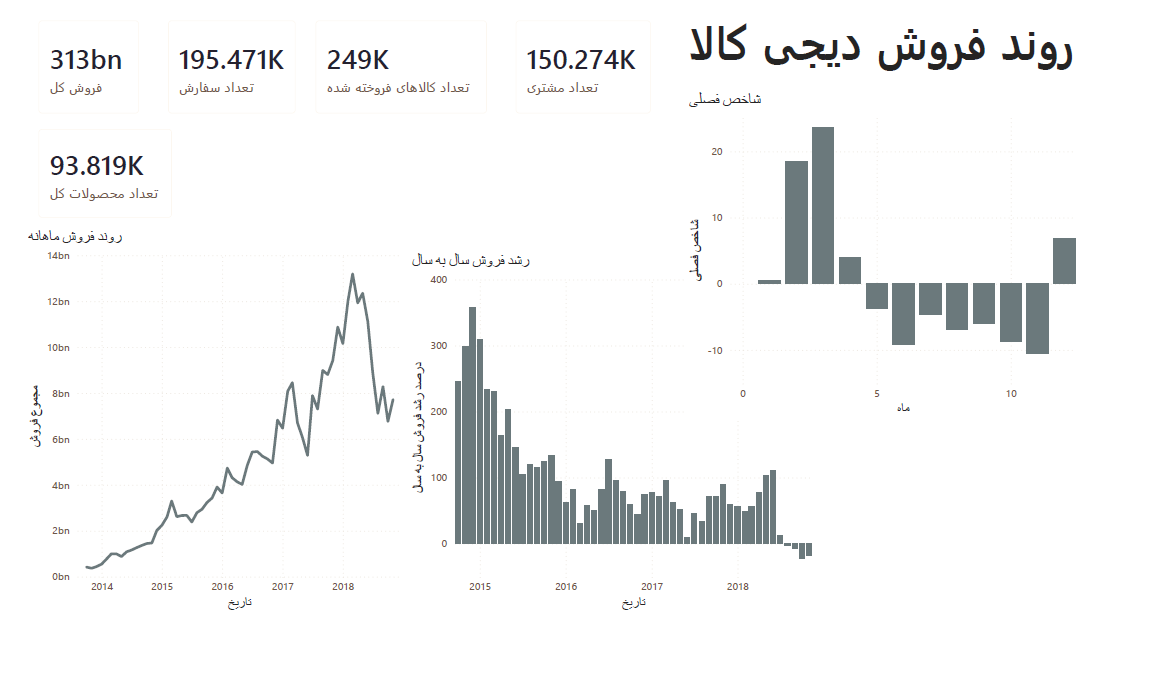

Layout of this report page (visuals, bound fields, positions):
{"tool":"powerbi","page":{"name":"روند فروش","canvas":[1280,720],"ordinal":0},"visuals":[{"type":"cardVisual","fields":{"Data":["Sum(orders_filtered.total_sales)"]},"box":[0,0,153.7,144.1],"z":0},{"type":"cardVisual","fields":{"Data":["Count(orders_filtered.ID_Order)"]},"box":[153.7,0,185.2,144.1],"z":1000},{"type":"cardVisual","fields":{"Data":["Sum(orders_filtered.Quantity_item)"]},"box":[329.3,0,237.4,144.1],"z":2000},{"type":"cardVisual","fields":{"Data":["Count(orders_filtered.ID_Customer)"]},"box":[566.7,0,194.9,144.1],"z":3000},{"type":"cardVisual","fields":{"Data":["Count(orders_filtered.ID_Item)"]},"box":[0,129,192.1,140],"z":4000},{"type":"textbox","box":[761.6,0,491.3,90.6],"z":5000},{"type":"lineChart","title":"روند فروش ماهانه","fields":{"Y":["Sum(monthly_sales.current_sales)"],"Category":["monthly_sales.date.Variation.Date Hierarchy.Year","monthly_sales.date.Variation.Date Hierarchy.Quarter","monthly_sales.date.Variation.Date Hierarchy.Month","monthly_sales.date.Variation.Date Hierarchy.Day"]},"box":[0,262.1,455.6,458.3],"z":6000},{"type":"clusteredColumnChart","title":"رشد فروش سال به سال","fields":{"Category":["year_over_year_sales.date"],"Y":["Sum(year_over_year_sales.sales_growth_pc)"]},"box":[455.6,290.9,495.4,429.5],"z":7000},{"type":"clusteredColumnChart","title":"شاخص فصلی","fields":{"Category":["seasonal_index.month"],"Y":["Sum(seasonal_index.deviation_pct)"]},"box":[783.5,100.2,469.3,391.1],"z":8000}]}

Visuals, with their boxes on the page's 1280x720 design canvas (x1, y1, x2, y2). These are canvas units, not pixel positions in the 1151x675 screenshot, which may show the page scaled, cropped or inside an application window:
cardVisual - Sum(orders_filtered.total_sales): bbox=[0, 0, 154, 144]
cardVisual - Count(orders_filtered.ID_Order): bbox=[154, 0, 339, 144]
cardVisual - Sum(orders_filtered.Quantity_item): bbox=[329, 0, 567, 144]
cardVisual - Count(orders_filtered.ID_Customer): bbox=[567, 0, 762, 144]
cardVisual - Count(orders_filtered.ID_Item): bbox=[0, 129, 192, 269]
textbox: bbox=[762, 0, 1253, 91]
"روند فروش ماهانه" lineChart: bbox=[0, 262, 456, 720]
"رشد فروش سال به سال" clusteredColumnChart: bbox=[456, 291, 951, 720]
"شاخص فصلی" clusteredColumnChart: bbox=[784, 100, 1253, 491]
